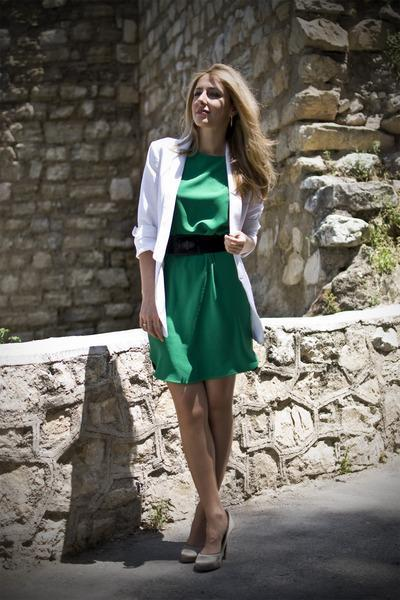dress: (146, 150, 258, 393)
jacket: (132, 137, 276, 347)
shoe: (167, 549, 217, 577)
